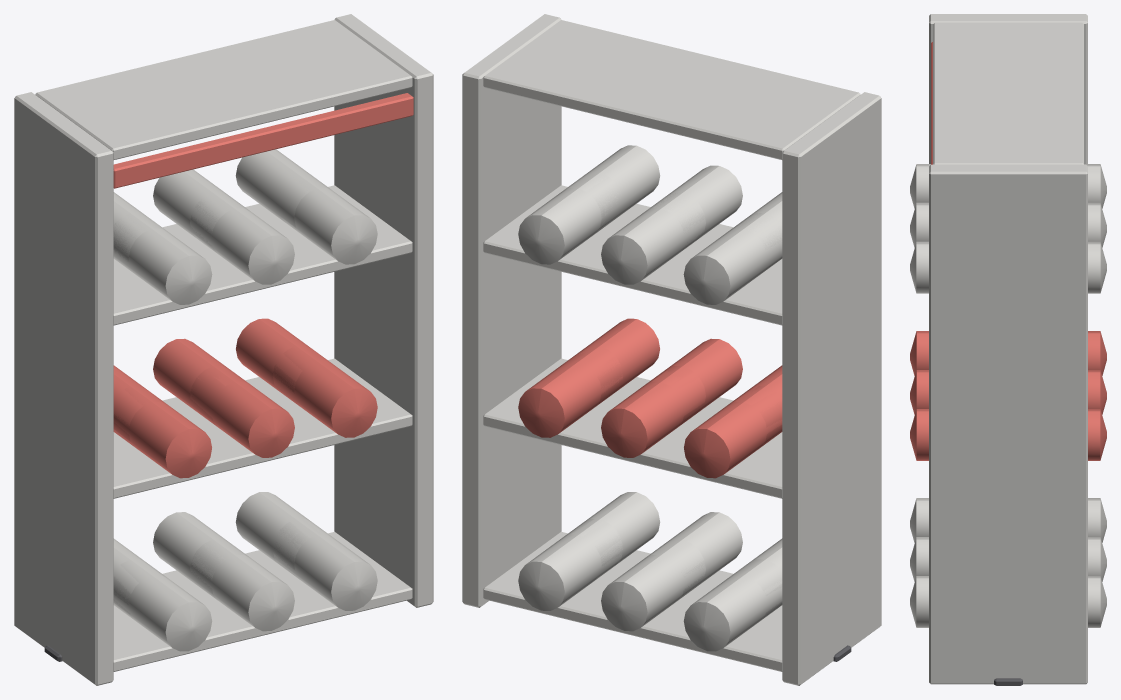
Rendered from towel_shelf.glb.
3 renders of one model, left to right at view 1: azimuth 30°, elevation 25°; view 2: azimuth 150°, elevation 25°; view 3: azimuth 270°, elevation 25°, orthographic. The views are drawn at different scales.
Parts seen in each view (by area): view 1: towel-shelf; view 2: towel-shelf; view 3: towel-shelf.
Boxes of the visible parts, left/top/right/bottom form: towel-shelf: left=14, top=14, right=433, bottom=685; towel-shelf: left=462, top=14, right=881, bottom=685; towel-shelf: left=910, top=14, right=1106, bottom=685.
Bounding box in the file's own units: 0.92 × 1.35 × 0.4701.
